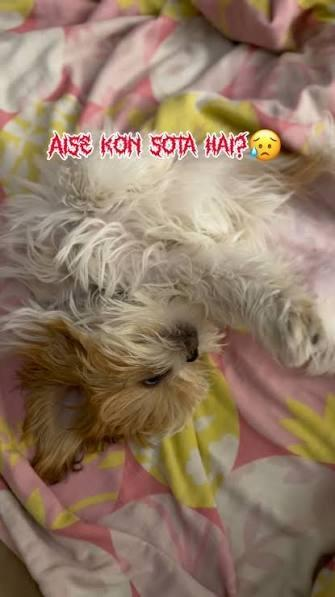puppy-dog: (0, 146, 335, 486)
